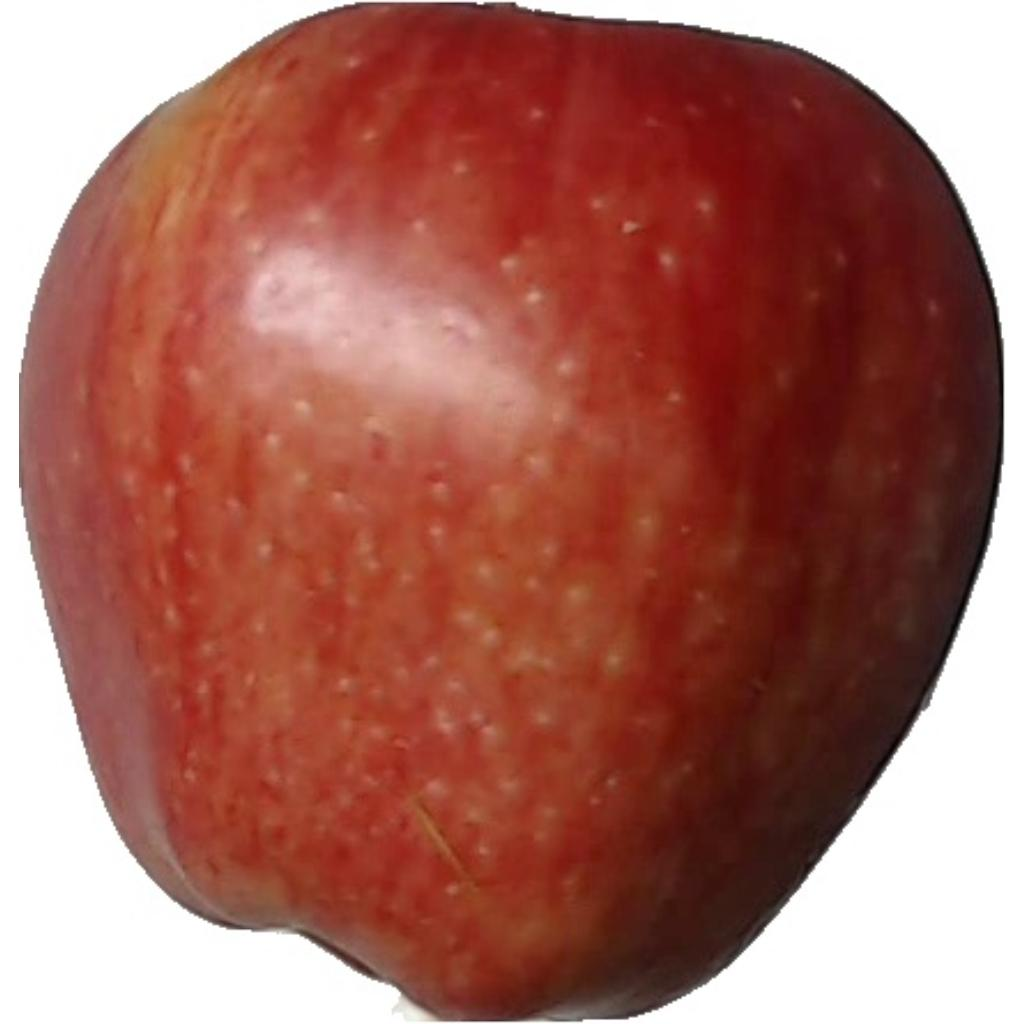apple: (18, 5, 1005, 1024)
